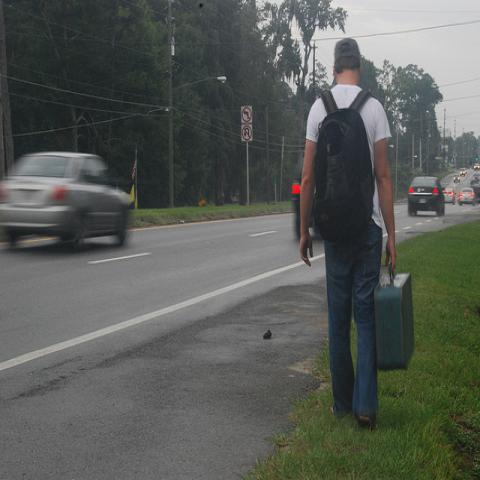car: (0, 149, 131, 249), (408, 176, 445, 218), (291, 156, 305, 238), (457, 188, 477, 207), (444, 188, 458, 204), (470, 182, 480, 197), (454, 174, 461, 184), (472, 172, 479, 182), (473, 163, 479, 171), (460, 169, 466, 176)
